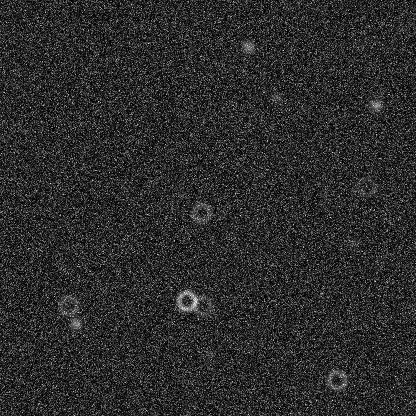Ring: (324, 368, 348, 392), (174, 288, 198, 312), (190, 293, 214, 317), (56, 293, 80, 317), (353, 174, 377, 198), (189, 200, 213, 224)
Spot: (367, 97, 383, 113), (200, 346, 216, 362), (239, 38, 255, 54), (67, 315, 83, 331), (345, 235, 361, 251), (268, 89, 284, 105), (392, 20, 408, 36)
